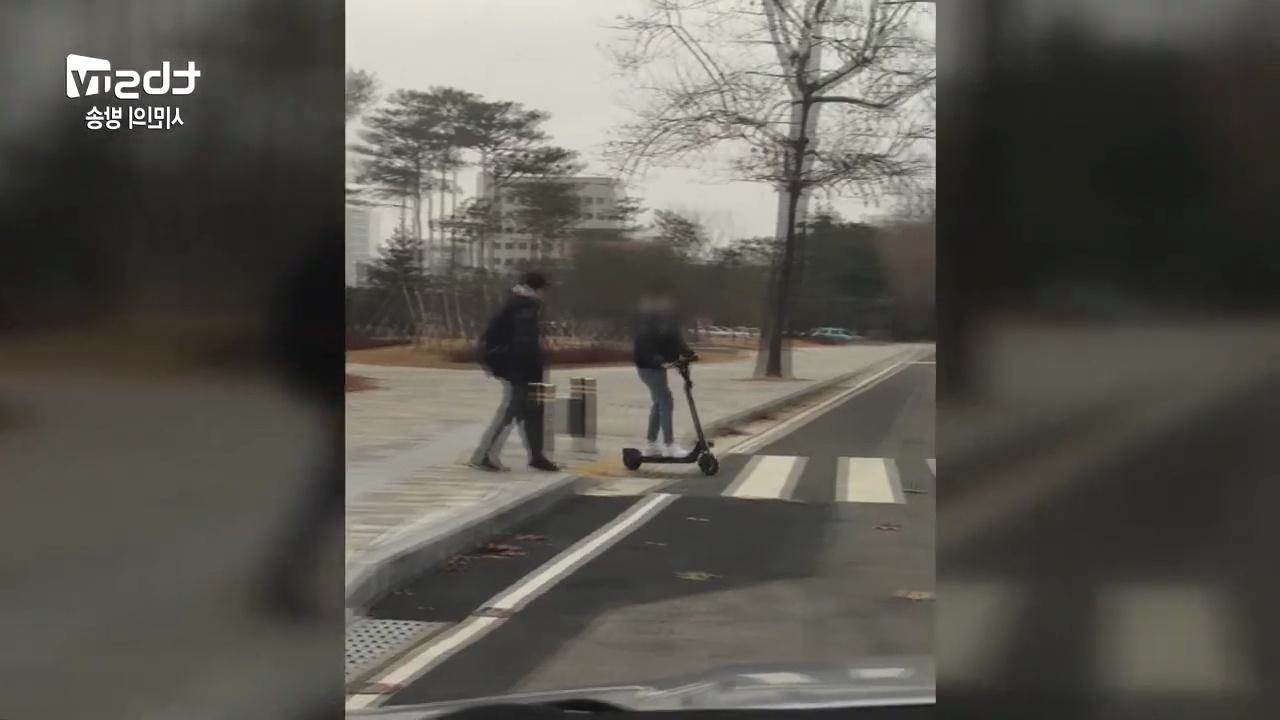nonhelmet: (615, 282, 721, 478)
